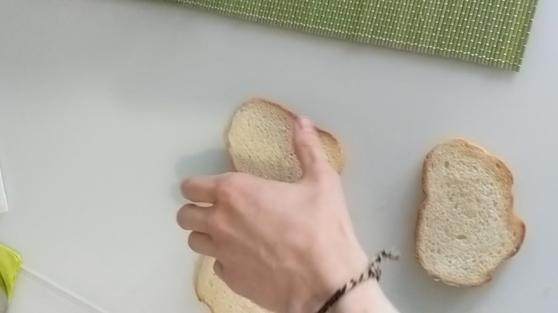white_bread: (417, 137, 529, 282), (223, 98, 348, 186)
